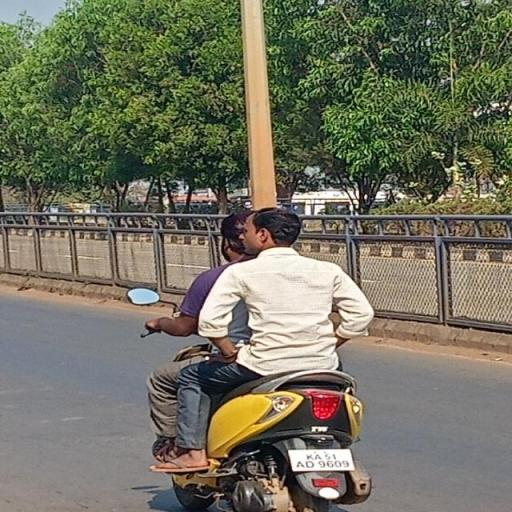bike: (131, 200, 407, 512)
numberplate: (290, 449, 356, 471)
withouthelmet: (249, 208, 300, 250), (219, 218, 243, 261)
